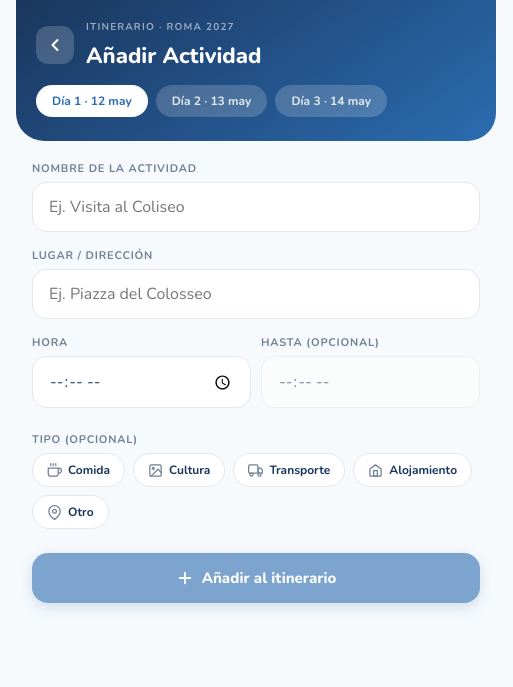
Test: AnadirActividad › muestra el error del backend y no avisa de que se ha guardado
Type "Paseo" into the field labelled "Nombre de la actividad".
click(256, 207); type("Paseo")  # box [32, 182, 480, 232]
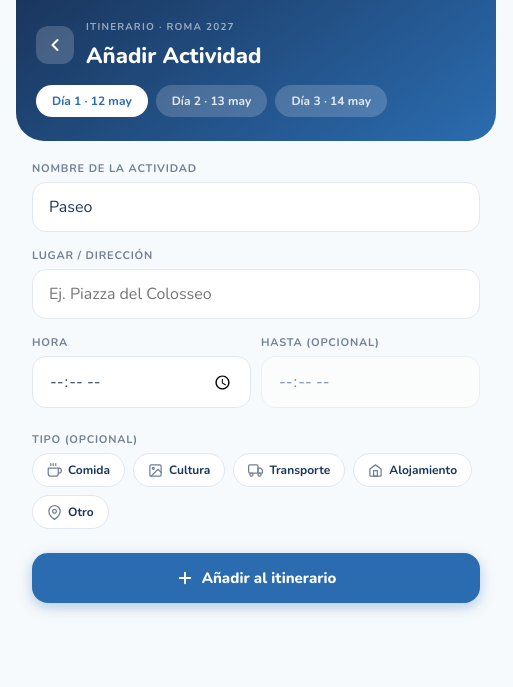
Click the button "Añadir al itinerario".
click(256, 578)  # box [32, 553, 480, 603]
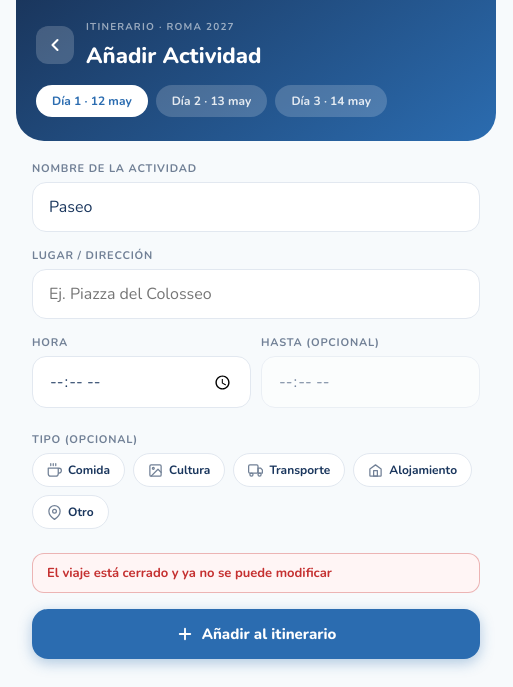
Check: the button "Añadir al itinerario" is enabled, box [32, 609, 480, 659]
Check: the message reads "El viaje está cerrado y ya no se puede modificar", box [47, 564, 332, 582]
